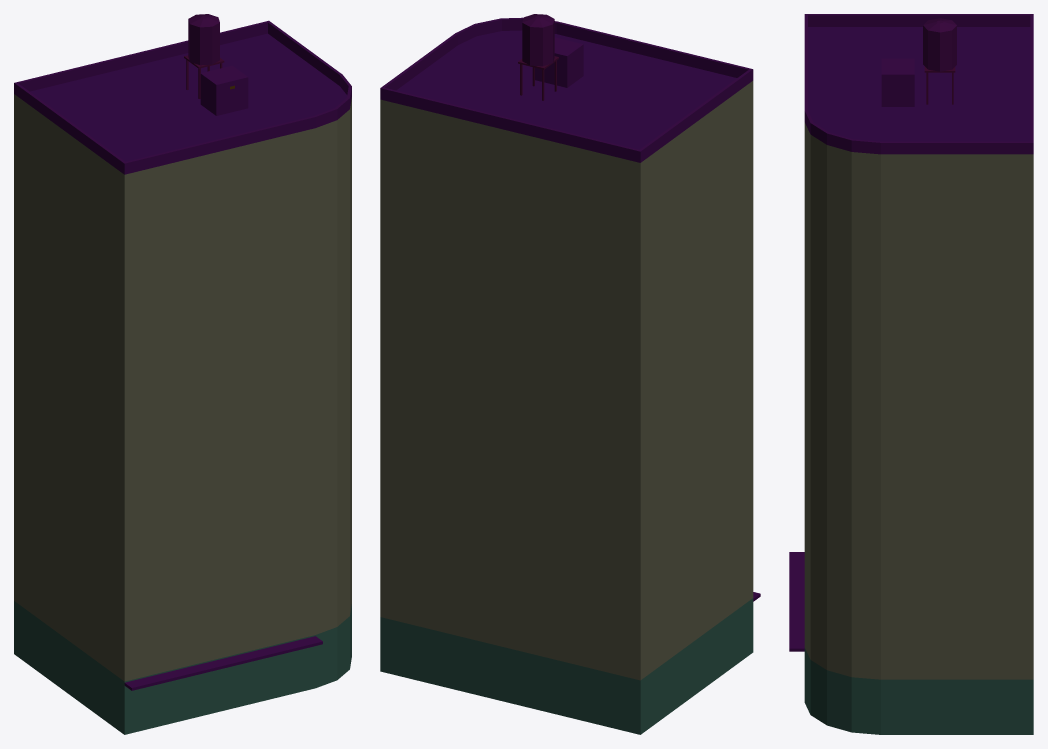
Rendered from commercial_a.lod1.glb.
The picture shows the model from 3 angles, left to right: view 1: azimuth 30°, elevation 25°; view 2: azimuth 150°, elevation 25°; view 3: azimuth 270°, elevation 25°; orthographic projection. The views are drawn at different scales.
Parts seen in each view (by area): view 1: commercial_a.lod1; view 2: commercial_a.lod1; view 3: commercial_a.lod1.
Part boxes in pixels (box(x1,y1,x2,y2)): commercial_a.lod1: box(14, 14, 351, 734); commercial_a.lod1: box(380, 14, 760, 734); commercial_a.lod1: box(789, 14, 1033, 734).
Size of the model in its own units: 24 by 57.08 by 19.2.
